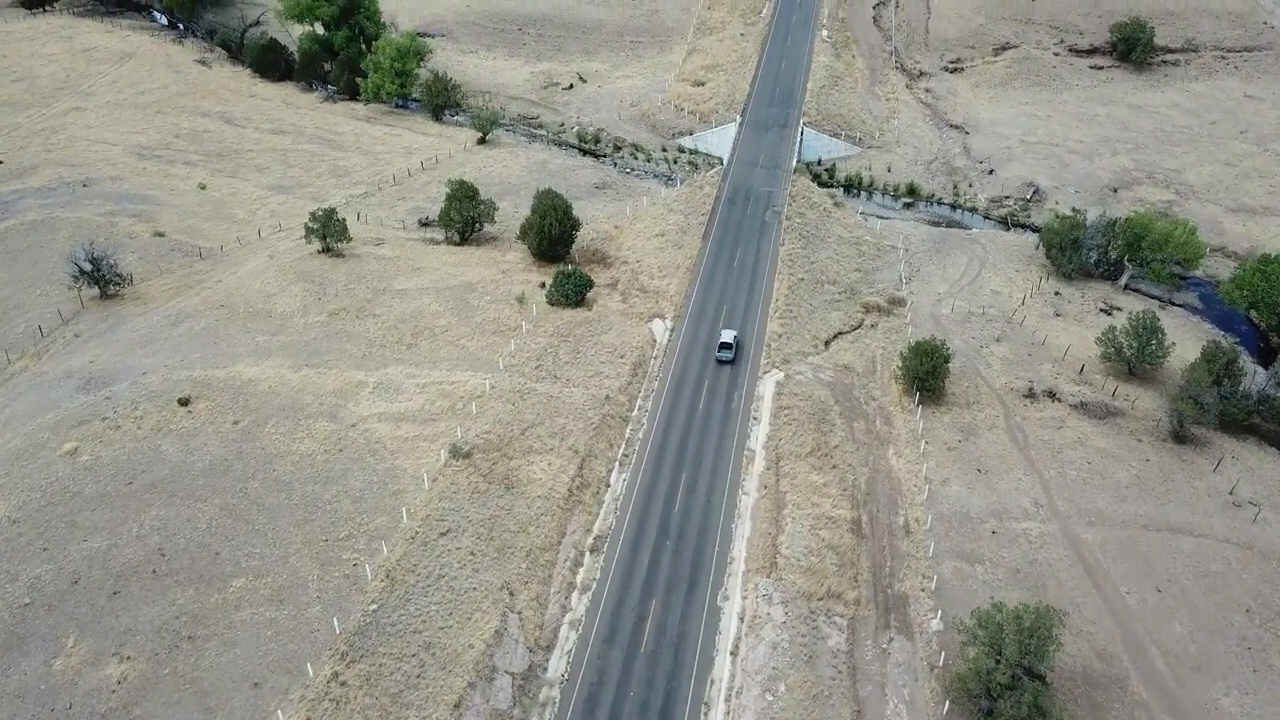araba: (713, 324, 743, 361)
